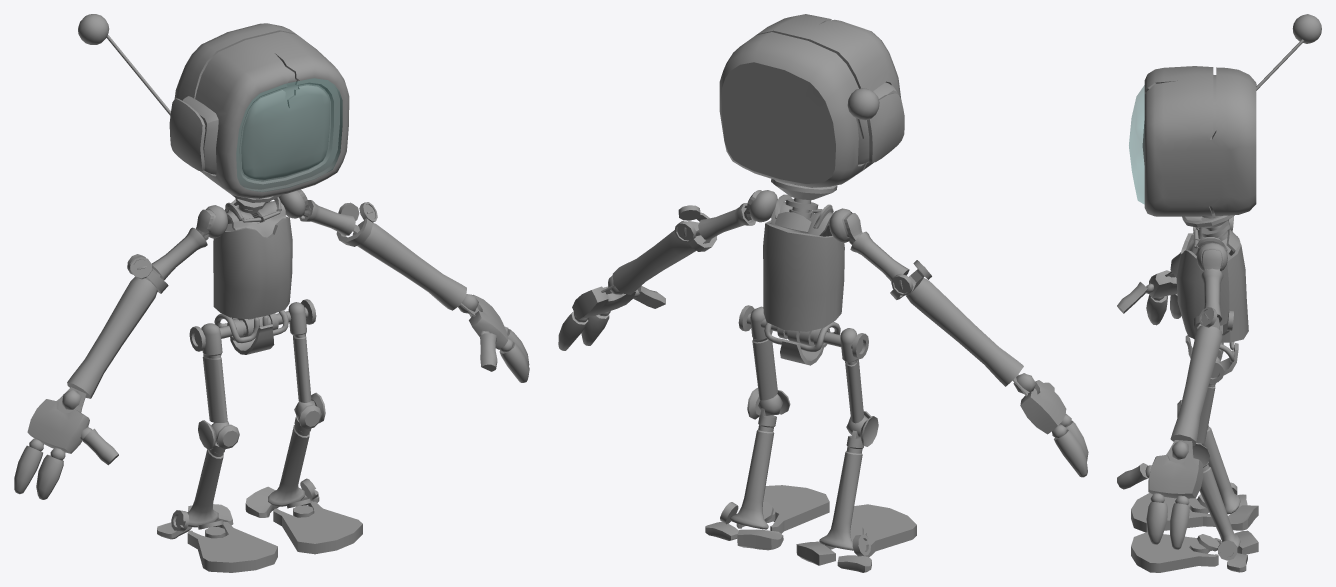
The model's file is Starter_Bot_Char_01.FBX.
3 views of the same model, side by side, from view 1: azimuth 30°, elevation 25°; view 2: azimuth 150°, elevation 25°; view 3: azimuth 270°, elevation 25° (orthographic). The views are drawn at different scales.
Visible parts, largest first — view 1: StarterBot_Char_01; view 2: StarterBot_Char_01; view 3: StarterBot_Char_01.
Part boxes in pixels (box(x1,y1,x2,y2)): StarterBot_Char_01: box(14, 14, 529, 572); StarterBot_Char_01: box(558, 14, 1088, 572); StarterBot_Char_01: box(1117, 14, 1321, 572).
Bounding box in the file's own units: 168 × 157 × 61.78.
